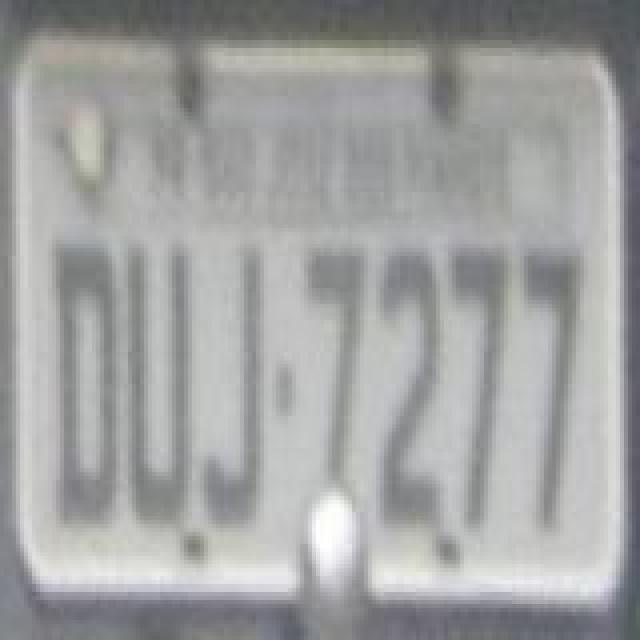2: (374, 244, 442, 540)
7: (448, 242, 512, 534), (520, 246, 584, 538), (304, 242, 368, 486)
D: (52, 236, 124, 532)
J: (198, 242, 266, 542)
U: (126, 236, 194, 532)
